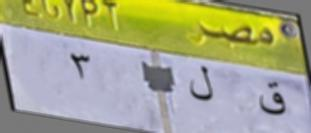3: (62, 50, 98, 87)
laam: (184, 65, 217, 107)
qaaf: (249, 78, 291, 123)
